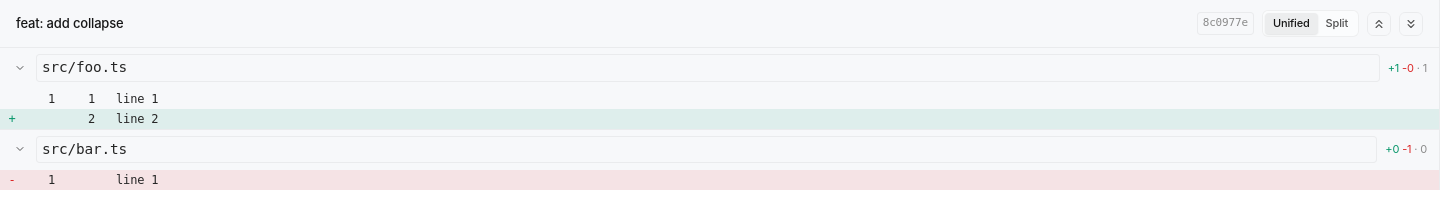
Test case: DiffTextView › toggles file collapse when chevron is clicked
Click the button with test id "diff-file-collapse-src/foo.ts": (20, 68) top-left (14, 62), bottom-right (26, 74)
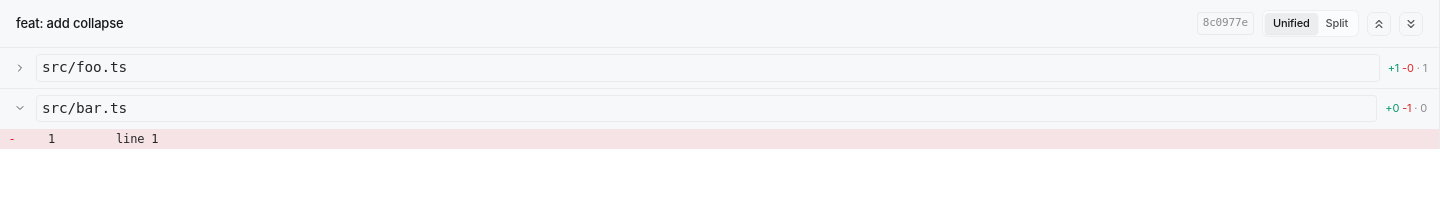
Click the button with test id "diff-file-collapse-src/foo.ts": (20, 68) top-left (14, 62), bottom-right (26, 74)
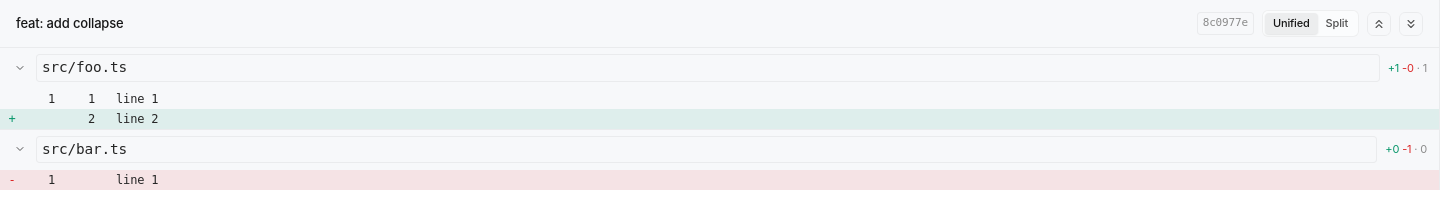
Now the element with test id "diff-line-src/foo.ts-0" is shown, box top-left (48, 92), bottom-right (158, 106)
